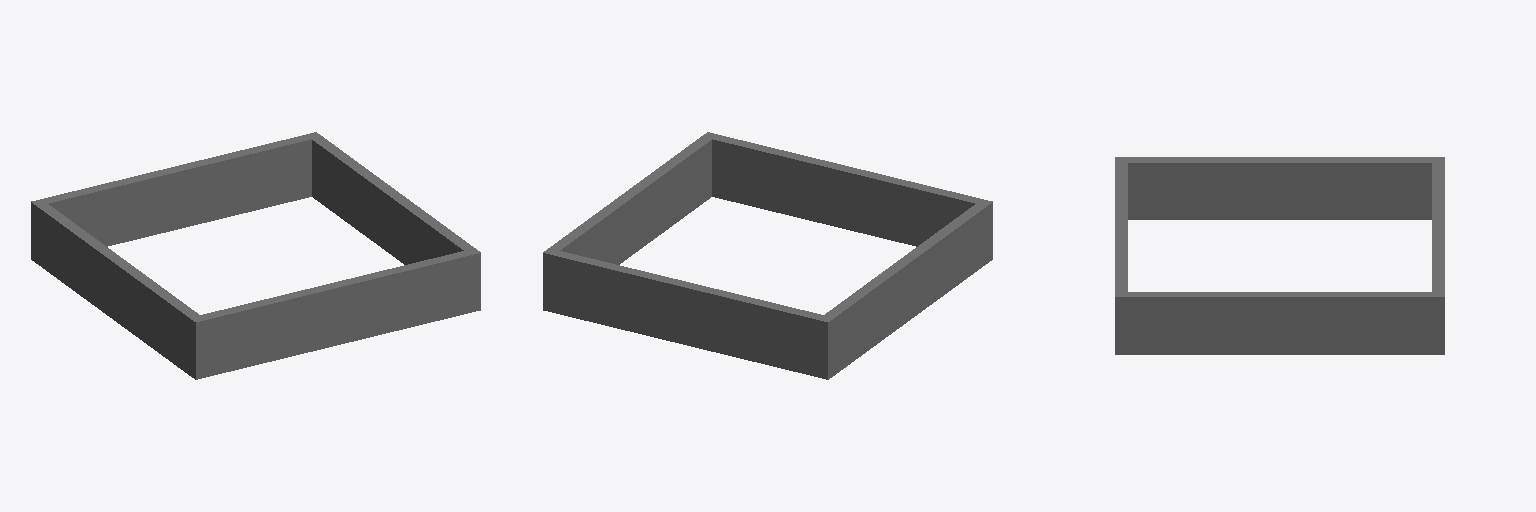
File: levelbox2.obj
3 views of the same model, side by side, from view 1: azimuth 30°, elevation 25°; view 2: azimuth 150°, elevation 25°; view 3: azimuth 270°, elevation 25° (orthographic).
Parts seen in each view (by area): view 1: polySurface1 levelbox2:pCube9, levelbox2:pCube9 polySurface2, levelbox2:pCube9 polySurface8, levelbox2:pCube9 polySurface5; view 2: levelbox2:pCube9 polySurface2, polySurface1 levelbox2:pCube9, levelbox2:pCube9 polySurface8, levelbox2:pCube9 polySurface5; view 3: levelbox2:pCube9 polySurface5, levelbox2:pCube9 polySurface8, levelbox2:pCube9 polySurface2, polySurface1 levelbox2:pCube9.
Part boxes in pixels (bbox=[...]): polySurface1 levelbox2:pCube9: bbox=[189, 248, 480, 379]; levelbox2:pCube9 polySurface2: bbox=[31, 132, 322, 263]; levelbox2:pCube9 polySurface8: bbox=[31, 199, 206, 378]; levelbox2:pCube9 polySurface5: bbox=[312, 137, 480, 312]; levelbox2:pCube9 polySurface2: bbox=[543, 248, 833, 379]; polySurface1 levelbox2:pCube9: bbox=[701, 132, 992, 263]; levelbox2:pCube9 polySurface8: bbox=[817, 199, 992, 378]; levelbox2:pCube9 polySurface5: bbox=[543, 134, 717, 302]; levelbox2:pCube9 polySurface5: bbox=[1115, 292, 1444, 354]; levelbox2:pCube9 polySurface8: bbox=[1116, 157, 1444, 219]; levelbox2:pCube9 polySurface2: bbox=[1432, 157, 1444, 354]; polySurface1 levelbox2:pCube9: bbox=[1115, 157, 1127, 354].
Size of the model in its own units: 52 by 10 by 52.